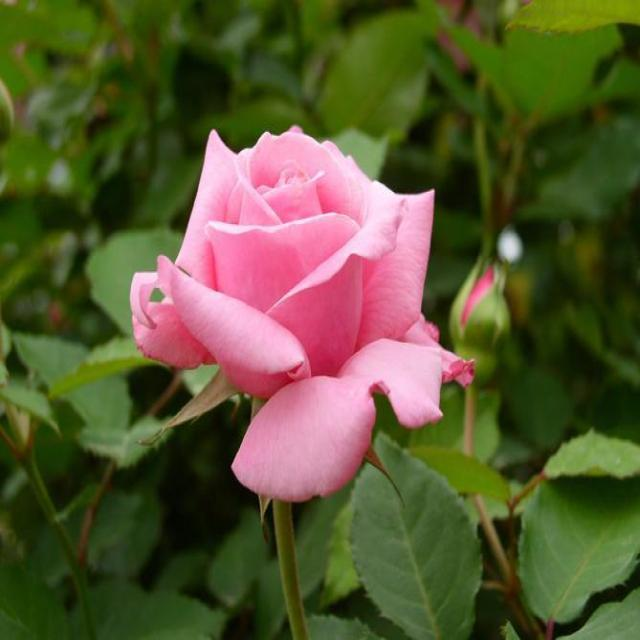rose: (134, 128, 478, 511)
